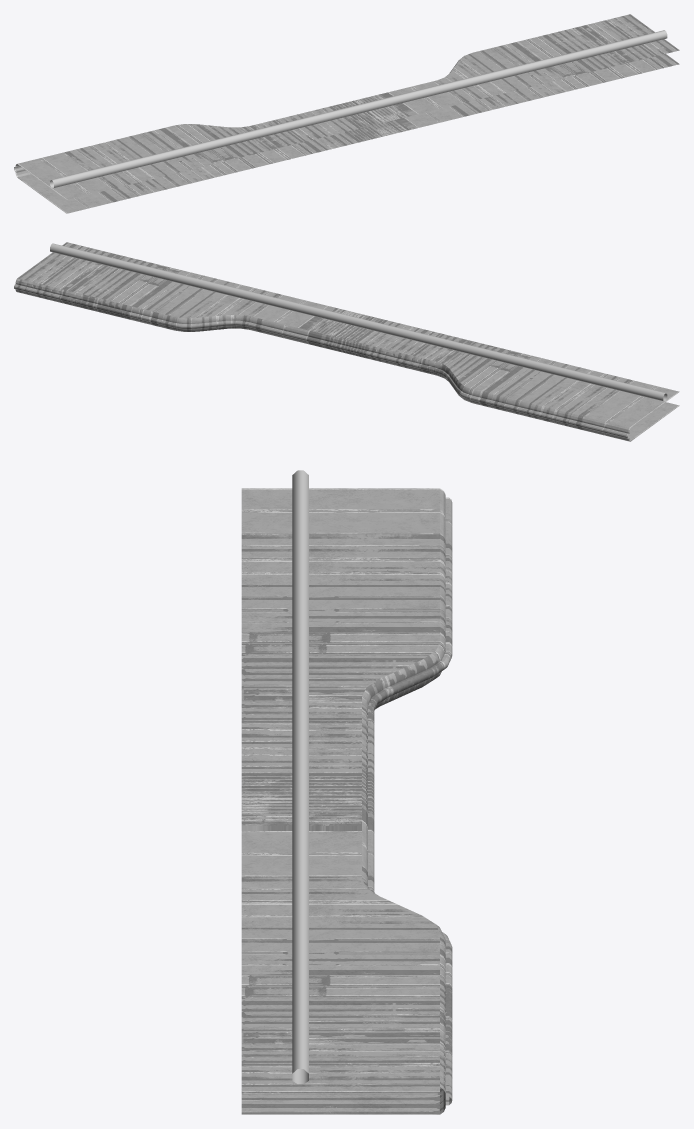
Rendered from SM_Building03_Canopy01R.fbx.
3 views of the same model, one above another, from view 1: azimuth 30°, elevation 25°; view 2: azimuth 150°, elevation 25°; view 3: azimuth 270°, elevation 25° (orthographic). The views are drawn at different scales.
Visible parts, largest first — view 1: SM_Building03_Canopy01R_LOD0; view 2: SM_Building03_Canopy01R_LOD0; view 3: SM_Building03_Canopy01R_LOD0.
Boxes of the visible parts, bbox=[...] form: SM_Building03_Canopy01R_LOD0: bbox=[14, 14, 679, 213]; SM_Building03_Canopy01R_LOD0: bbox=[14, 242, 679, 441]; SM_Building03_Canopy01R_LOD0: bbox=[241, 470, 452, 1114].
Bounding box in the file's own units: 699 × 104 × 24.8.
